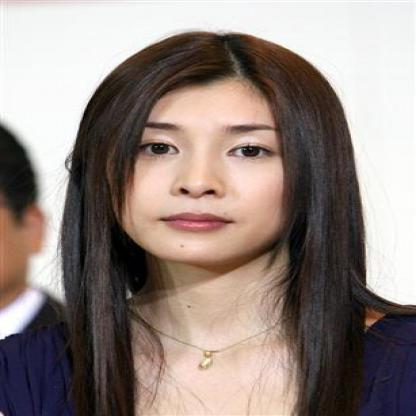long-hair: (44, 266, 376, 318)
